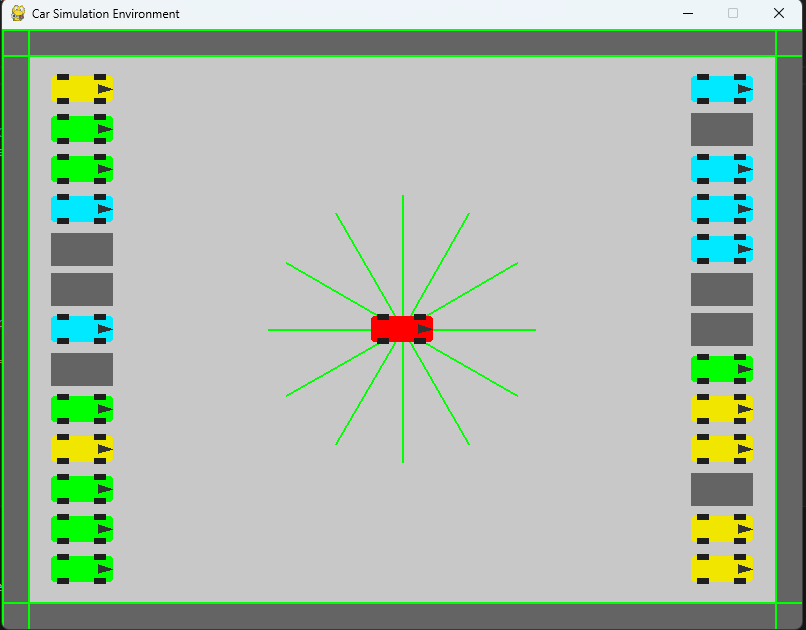ControlledCar: (362, 310, 441, 351)
ParkedCar: (44, 67, 114, 111), (47, 310, 117, 348), (688, 190, 757, 228), (686, 72, 758, 107), (41, 111, 115, 145), (50, 190, 116, 228), (685, 351, 753, 387), (692, 432, 756, 468), (50, 151, 113, 187), (49, 431, 112, 467), (690, 231, 755, 265), (48, 391, 113, 424), (48, 472, 113, 505), (48, 513, 113, 546), (691, 514, 756, 547), (50, 554, 119, 585), (687, 153, 756, 184), (688, 392, 754, 424), (690, 554, 752, 587)
ParkingSpot: (688, 466, 758, 511), (685, 112, 760, 150), (47, 269, 119, 308), (48, 350, 121, 387), (685, 311, 757, 348), (688, 270, 757, 308), (49, 231, 117, 269)
